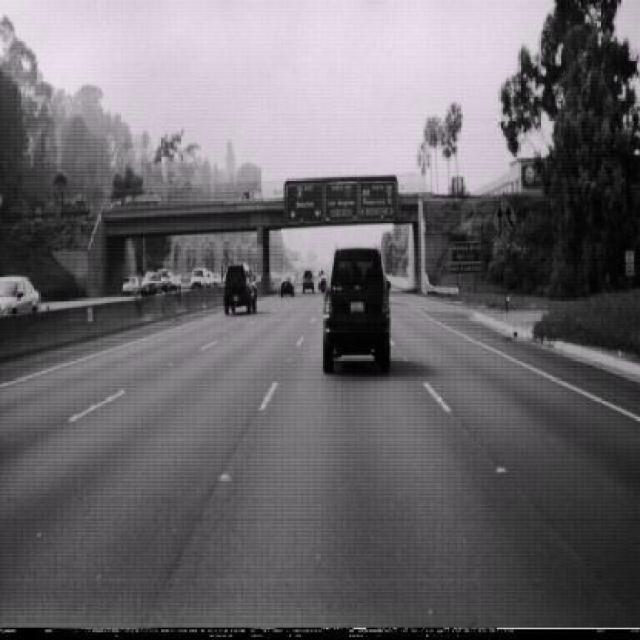addedLane: (491, 192, 517, 246)
